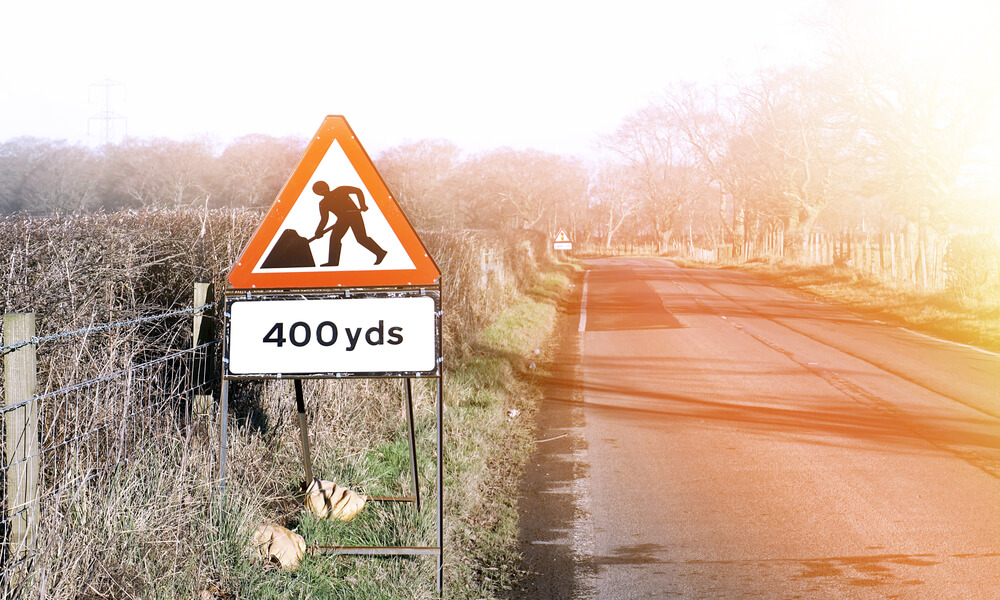caution: (228, 115, 440, 287)
